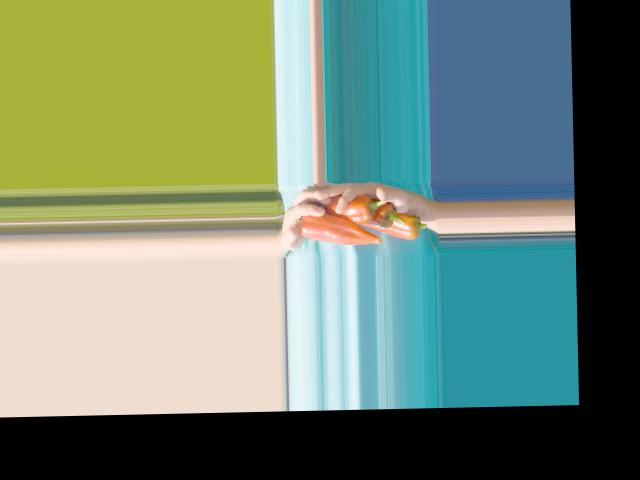bell_pepper: (374, 210, 427, 240)
